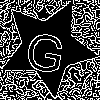G: (22, 22, 69, 75)
